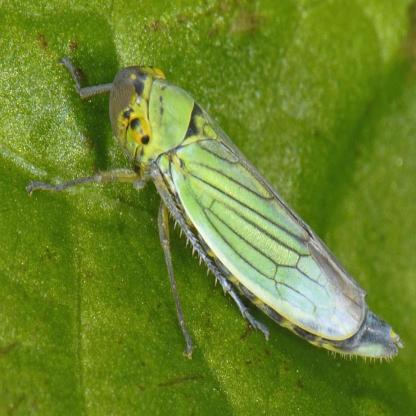Green-Leafhopper: (29, 49, 406, 364)
